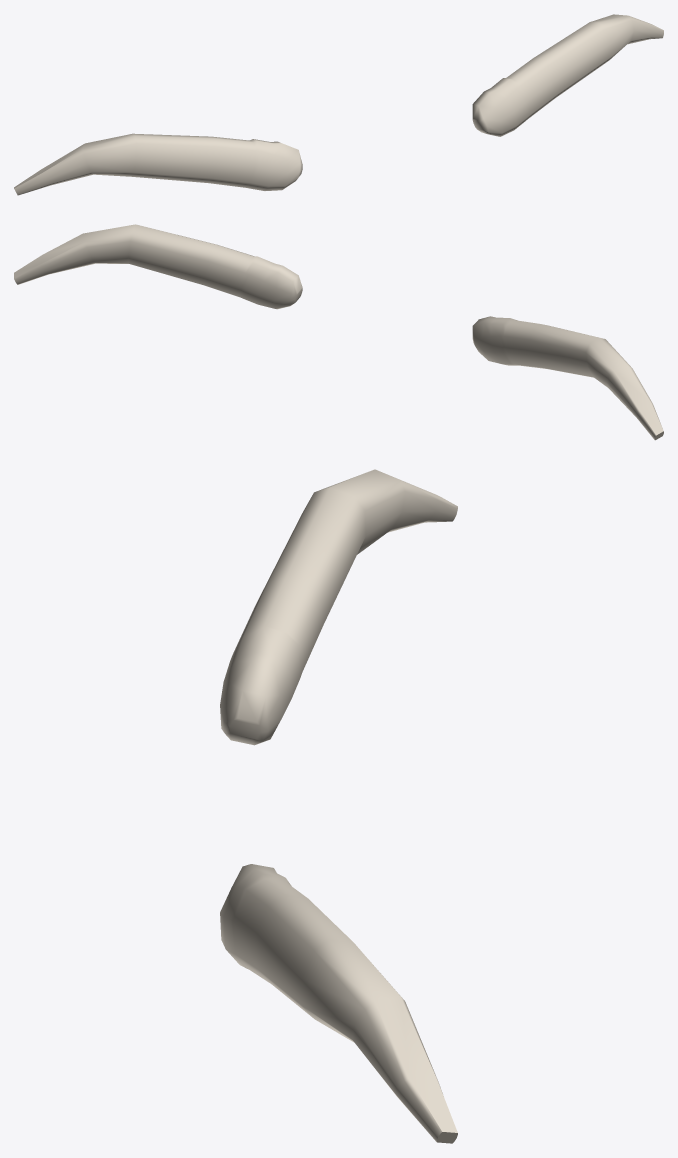
The model's file is Eyebrows_15_07.fbx.
3 views of the same model, one above another, from view 1: azimuth 30°, elevation 25°; view 2: azimuth 150°, elevation 25°; view 3: azimuth 270°, elevation 25° (orthographic). The views are drawn at different scales.
Parts seen in each view (by area): view 1: Eyebrows_15_07; view 2: Eyebrows_15_07; view 3: Eyebrows_15_07.
Boxes of the visible parts, x1,y1,x2,y2 form: Eyebrows_15_07: (14,14,663,195); Eyebrows_15_07: (14,224,663,440); Eyebrows_15_07: (220,469,457,1143).
Bounding box in the file's own units: 19.15 × 1.93 × 3.04.
